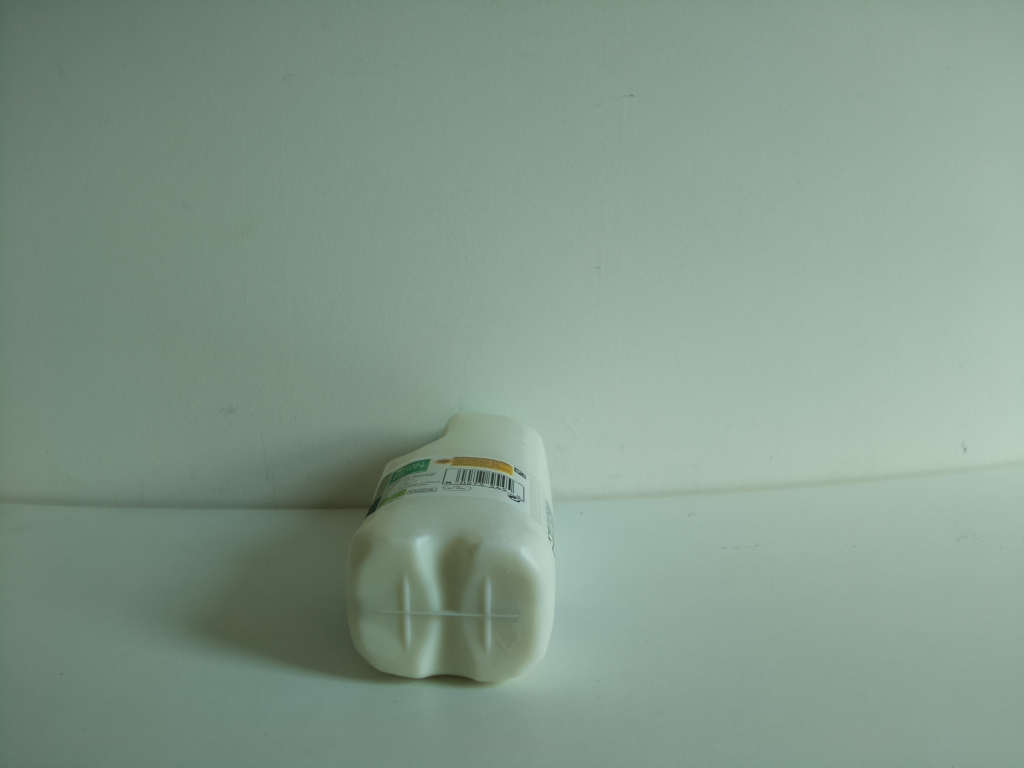milk: (338, 403, 559, 696)
